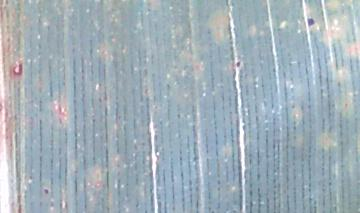tarspot: (306, 17, 316, 27), (235, 60, 242, 67), (43, 189, 50, 195)
